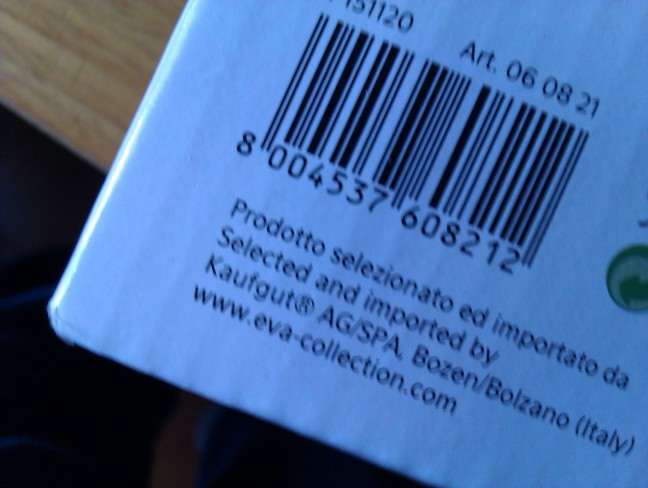barcode: (229, 9, 606, 288)
